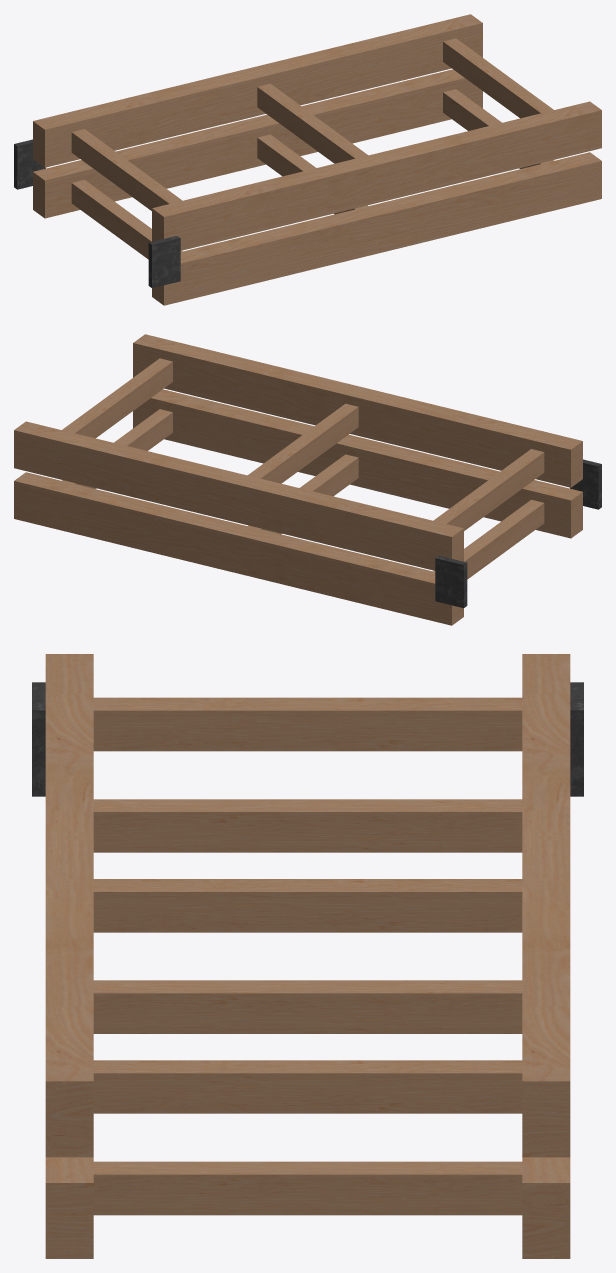
File: escadadoalacapao.fbx
3 views of the same model, one above another, from view 1: azimuth 30°, elevation 25°; view 2: azimuth 150°, elevation 25°; view 3: azimuth 270°, elevation 25° (orthographic). The views are drawn at different scales.
Parts seen in each view (by area): view 1: ladodireitocima, ladodireitobaixo, ladoesquerdocima, ladoesquerdobaixo, degraucima1, degraucima2, degraucima3, degraubaixo1, dobradicadireita, degraubaixo2, degraubaixo3, dobradicaesquerda; view 2: ladoesquerdocima, ladoesquerdobaixo, ladodireitocima, ladodireitobaixo, degraucima1, degraucima2, degraucima3, degraubaixo1, dobradicaesquerda, degraubaixo2, degraubaixo3, dobradicadireita; view 3: ladodireitocima, ladoesquerdocima, degraubaixo3, degraucima1, degraubaixo1, degraubaixo2, degraucima2, degraucima3, ladoesquerdobaixo, ladodireitobaixo, dobradicadireita, dobradicaesquerda.
Boxes of the visible parts, <box> form: ladodireitocima: <box>152,101,601,250</box>; ladodireitobaixo: <box>152,152,601,305</box>; ladoesquerdocima: <box>33,14,482,167</box>; ladoesquerdobaixo: <box>33,69,482,218</box>; degraucima1: <box>71,129,182,210</box>; degraucima2: <box>257,83,368,163</box>; degraucima3: <box>443,38,553,118</box>; degraubaixo1: <box>71,179,182,259</box>; dobradicadireita: <box>148,236,180,288</box>; degraubaixo2: <box>257,134,368,214</box>; degraubaixo3: <box>443,89,553,168</box>; dobradicaesquerda: <box>14,139,45,189</box>; ladoesquerdocima: <box>14,421,463,570</box>; ladoesquerdobaixo: <box>14,472,463,625</box>; ladodireitocima: <box>133,334,582,487</box>; ladodireitobaixo: <box>133,389,582,538</box>; degraucima1: <box>433,449,544,530</box>; degraucima2: <box>247,403,358,483</box>; degraucima3: <box>62,358,172,438</box>; degraubaixo1: <box>433,499,544,579</box>; dobradicaesquerda: <box>435,555,467,608</box>; degraubaixo2: <box>247,454,358,534</box>; degraubaixo3: <box>62,409,172,488</box>; dobradicadireita: <box>570,459,601,509</box>; ladodireitocima: <box>45,654,93,1157</box>; ladoesquerdocima: <box>522,654,570,1157</box>; degraubaixo3: <box>93,1161,522,1215</box>; degraucima1: <box>93,697,522,751</box>; degraubaixo1: <box>93,799,522,852</box>; degraubaixo2: <box>93,980,522,1033</box>; degraucima2: <box>93,879,522,932</box>; degraucima3: <box>93,1060,522,1113</box>; ladoesquerdobaixo: <box>522,1157,570,1258</box>; ladodireitobaixo: <box>45,1157,93,1258</box>; dobradicadireita: <box>32,682,45,796</box>; dobradicaesquerda: <box>570,682,583,796</box>.
Bounding box in the file's own units: 10.98 × 2.05 × 5.79.
